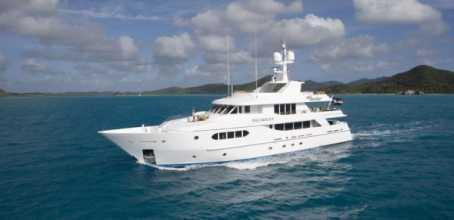yacht: (89, 42, 352, 172)
